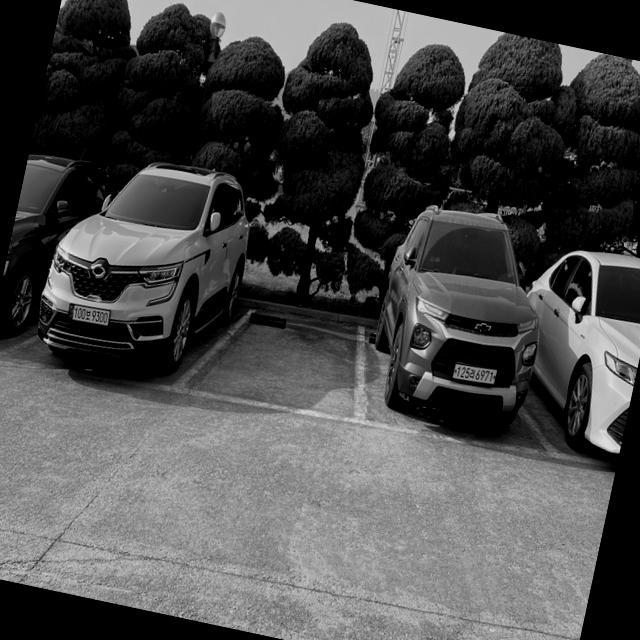car: (29, 144, 264, 392), (358, 200, 564, 441)
free: (162, 306, 367, 429)
